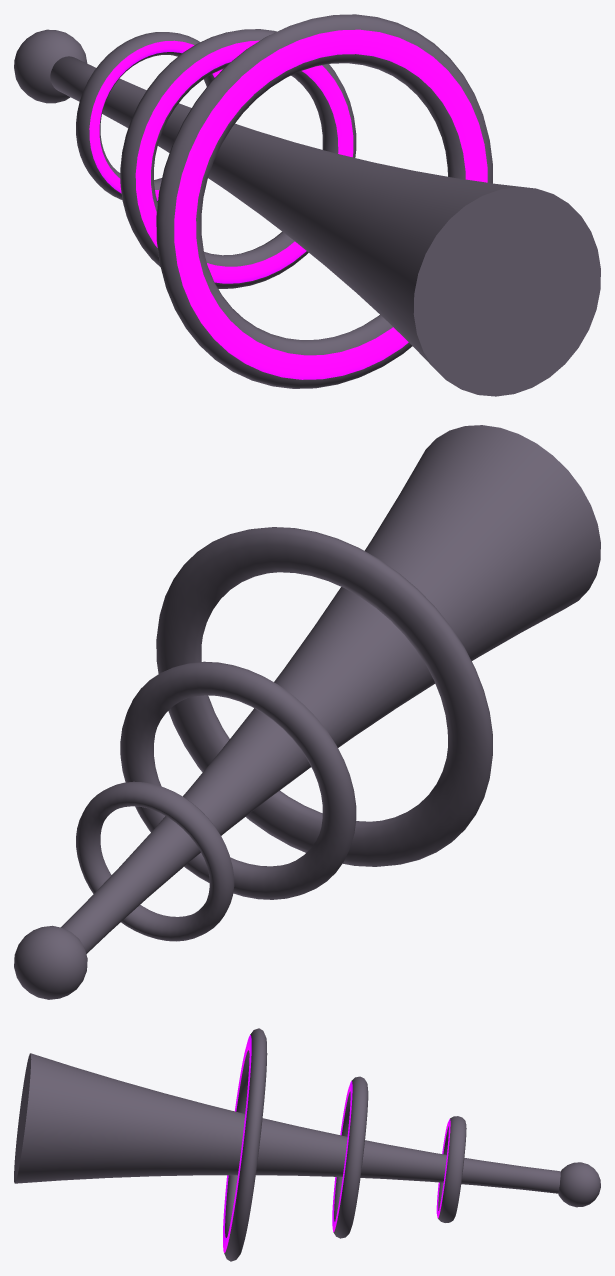
The model's file is EnergyWeapon3.gltf.
3 views of the same model, one above another, from view 1: azimuth 30°, elevation 25°; view 2: azimuth 150°, elevation 25°; view 3: azimuth 270°, elevation 25° (orthographic). The views are drawn at different scales.
Parts seen in each view (by area): view 1: Torus; view 2: Torus; view 3: Torus.
Boxes of the visible parts, bbox=[...] form: Torus: bbox=[14, 14, 600, 396]; Torus: bbox=[14, 425, 600, 999]; Torus: bbox=[14, 1028, 600, 1261].
Size of the model in its own units: 2.42 by 2.4 by 6.03.
